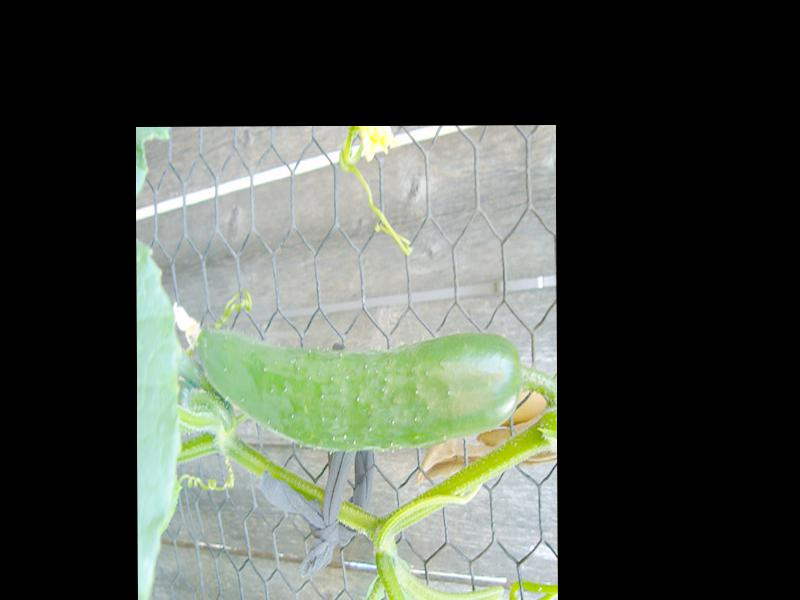Cucumber: (199, 325, 521, 454)
